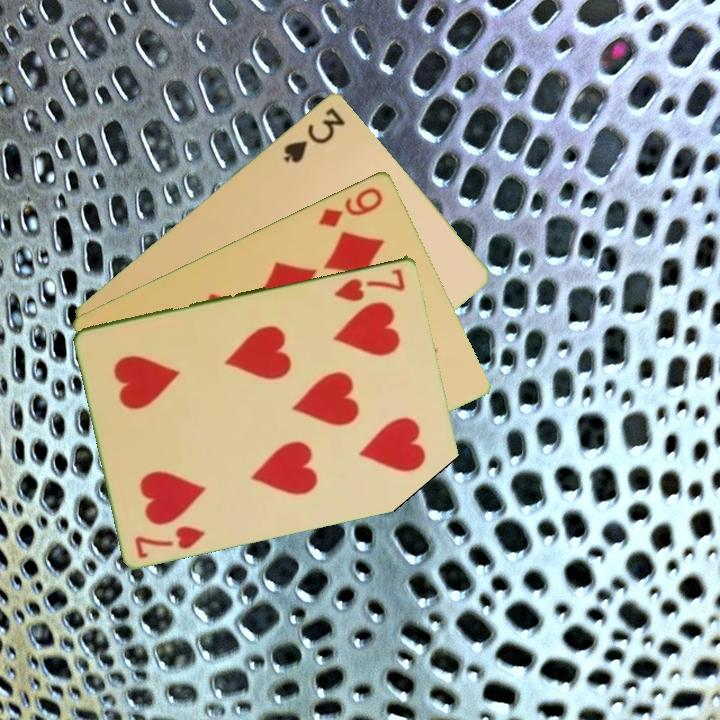3s: (280, 103, 348, 166)
7h: (331, 264, 408, 304), (131, 522, 208, 561)
9d: (315, 183, 386, 230)
